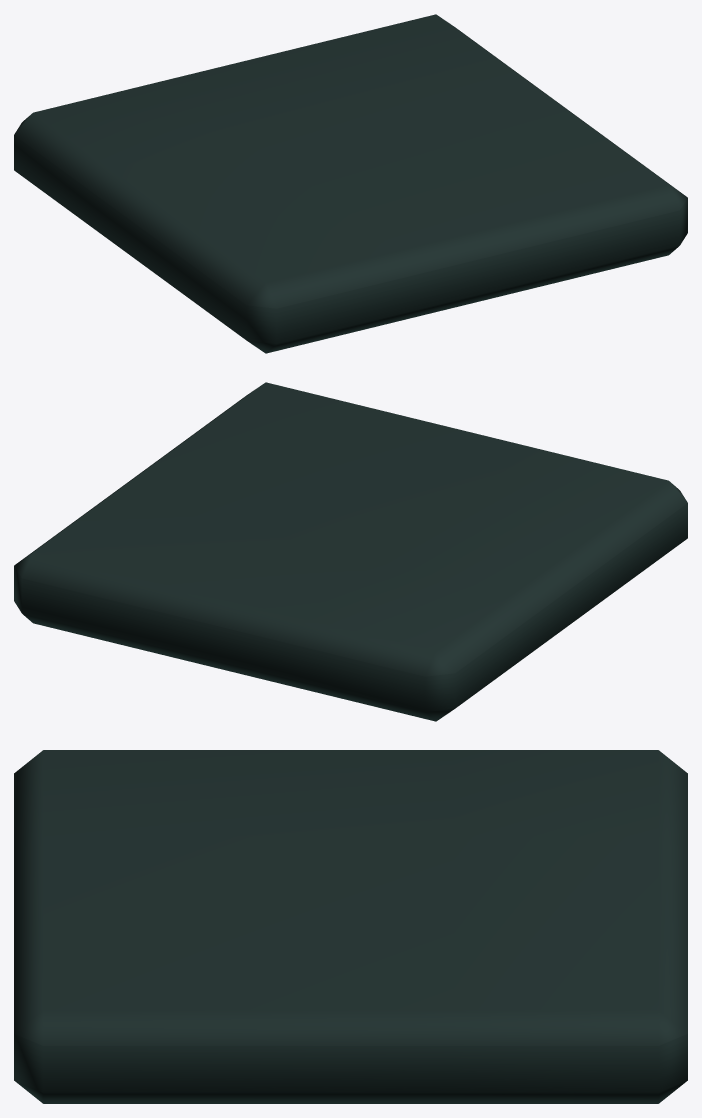
Rendered from rock_top_3x3.fbx.
The picture shows the model from 3 angles, top to bottom: view 1: azimuth 30°, elevation 25°; view 2: azimuth 150°, elevation 25°; view 3: azimuth 270°, elevation 25°; orthographic projection. The views are drawn at different scales.
Parts seen in each view (by area): view 1: rock_top_3x3; view 2: rock_top_3x3; view 3: rock_top_3x3.
Boxes of the visible parts, x1,y1,x2,y2 form: rock_top_3x3: (14, 14, 687, 353); rock_top_3x3: (14, 382, 687, 721); rock_top_3x3: (14, 750, 687, 1103).
Bounding box in the file's own units: 327 × 50 × 327.
